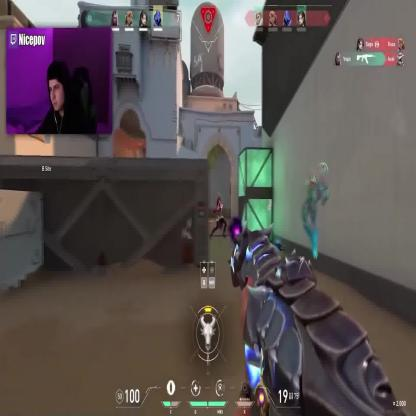enemy: (210, 192, 227, 240)
enemy_head: (217, 195, 221, 205)
